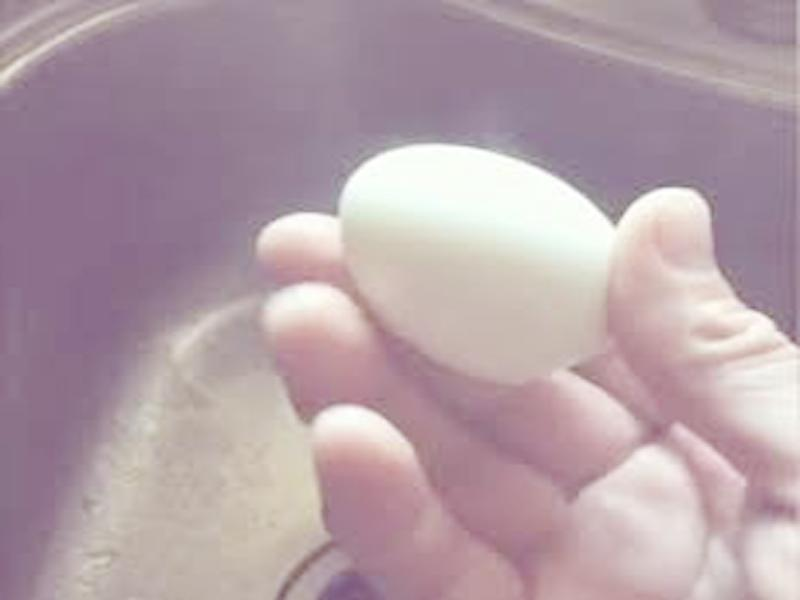Eggs: (338, 144, 617, 379)
